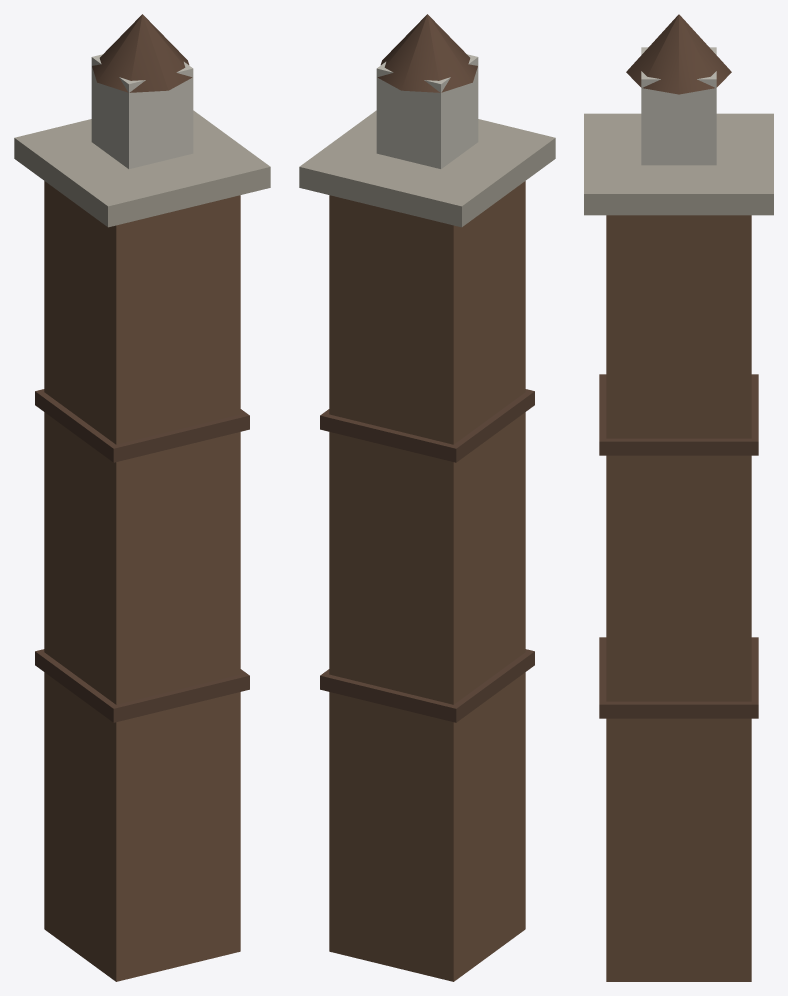
Rendered from landmark-tower.glb.
3 renders of one model, left to right at view 1: azimuth 30°, elevation 25°; view 2: azimuth 150°, elevation 25°; view 3: azimuth 270°, elevation 25°, orthographic.
Bounding box in the file's own units: 3.4 × 18.52 × 3.4.
